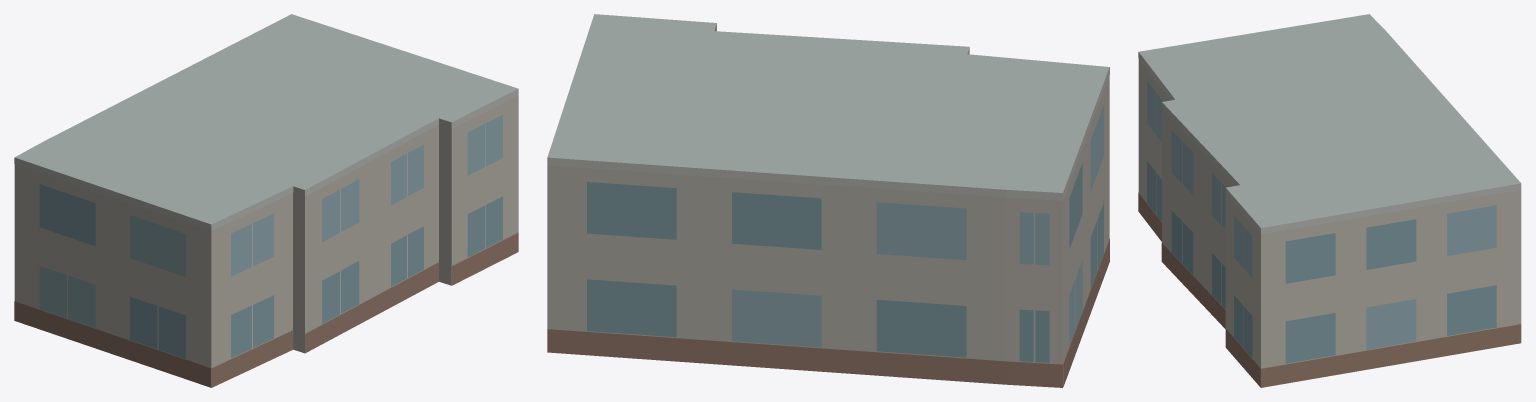
The model's file is survey-upis-32941620.glb.
3 renders of one model, left to right at view 1: azimuth 30°, elevation 25°; view 2: azimuth 150°, elevation 25°; view 3: azimuth 270°, elevation 25°, orthographic. The views are drawn at different scales.
Parts seen in each view (by area): view 1: survey-upis-32941620.tmp; view 2: survey-upis-32941620.tmp; view 3: survey-upis-32941620.tmp.
Boxes of the visible parts, bbox=[...] form: survey-upis-32941620.tmp: bbox=[14, 14, 518, 387]; survey-upis-32941620.tmp: bbox=[547, 14, 1109, 387]; survey-upis-32941620.tmp: bbox=[1138, 14, 1521, 387].
Bounding box in the file's own units: 17.54 × 6.1 × 13.25.
